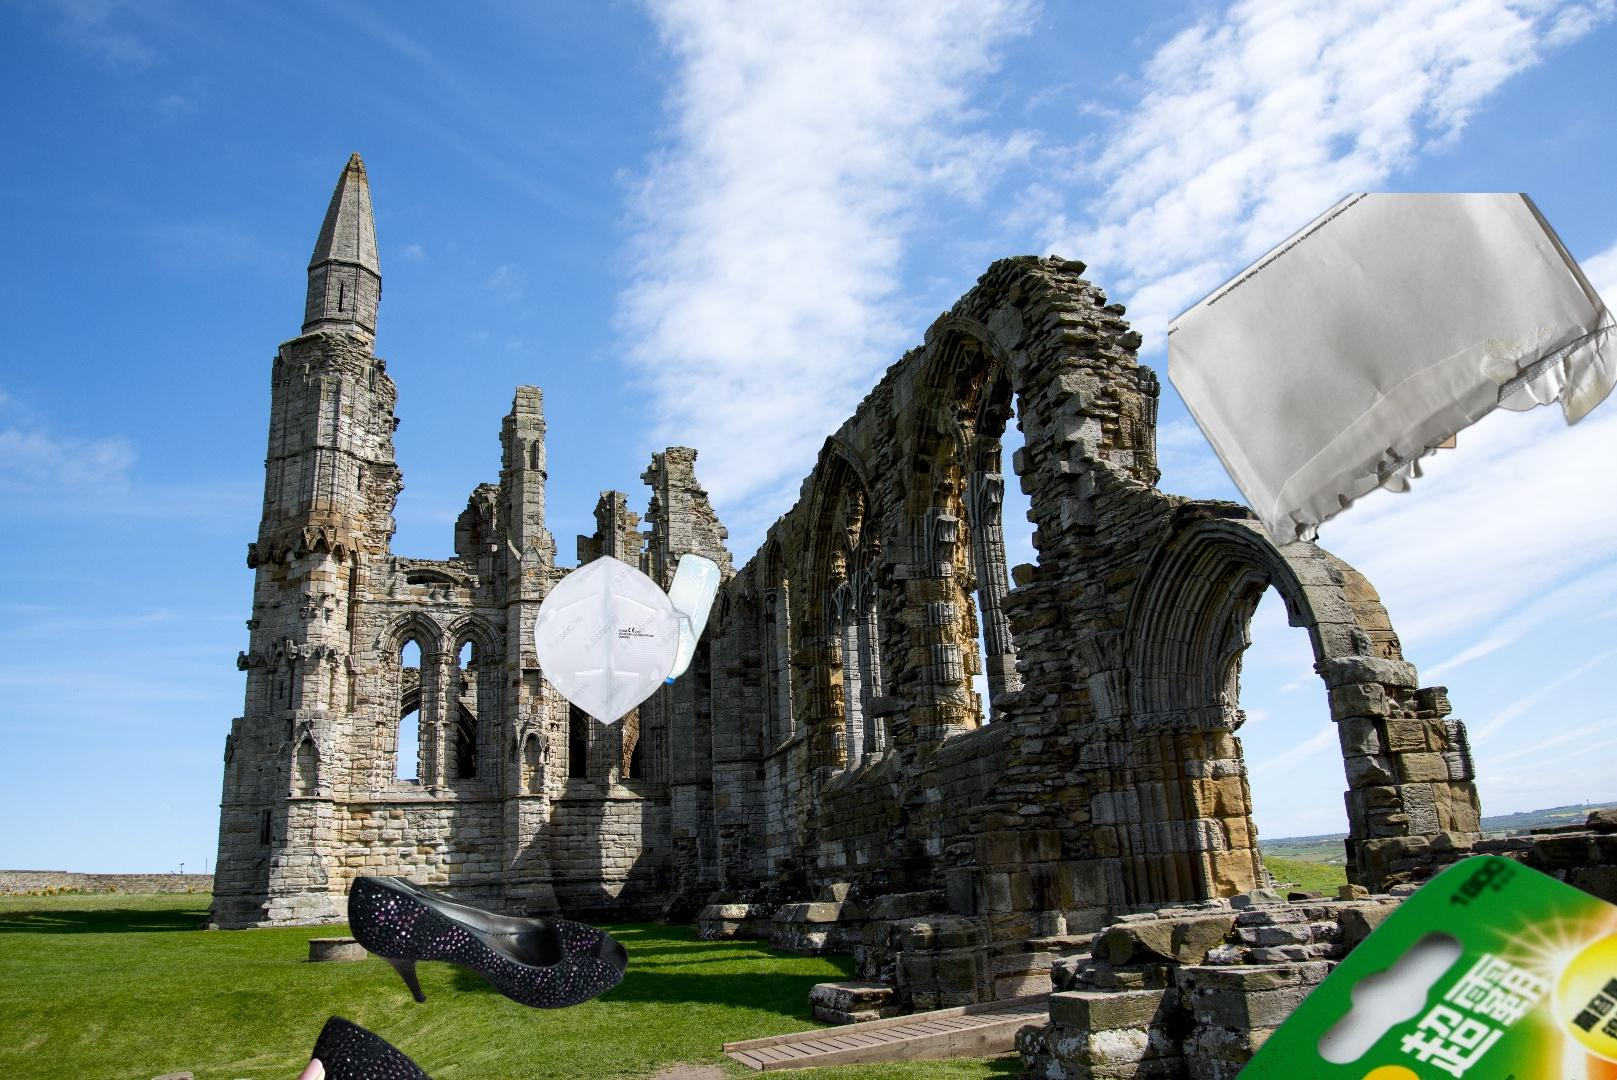battery: (1225, 856, 1617, 1080)
paper: (1168, 193, 1617, 551)
paper-bag: (1271, 209, 1499, 456)
plastic-bottles: (643, 547, 727, 691)
shoes: (242, 877, 668, 1080)
trash: (471, 551, 708, 736)
